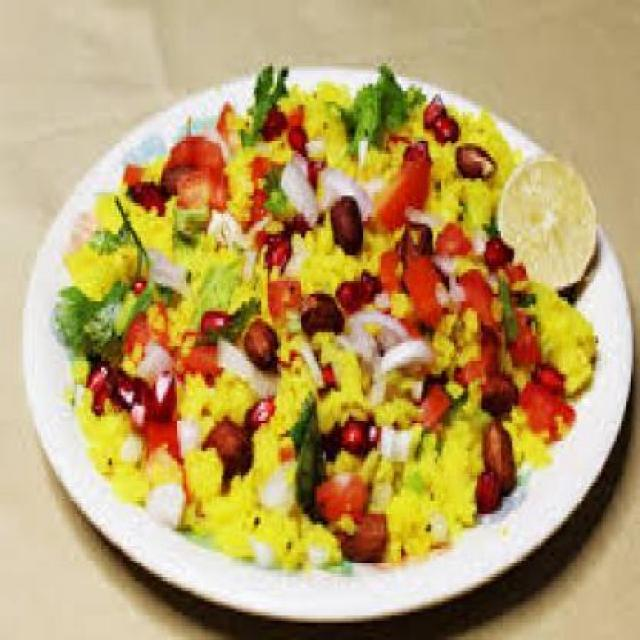poha: (56, 63, 598, 575)
